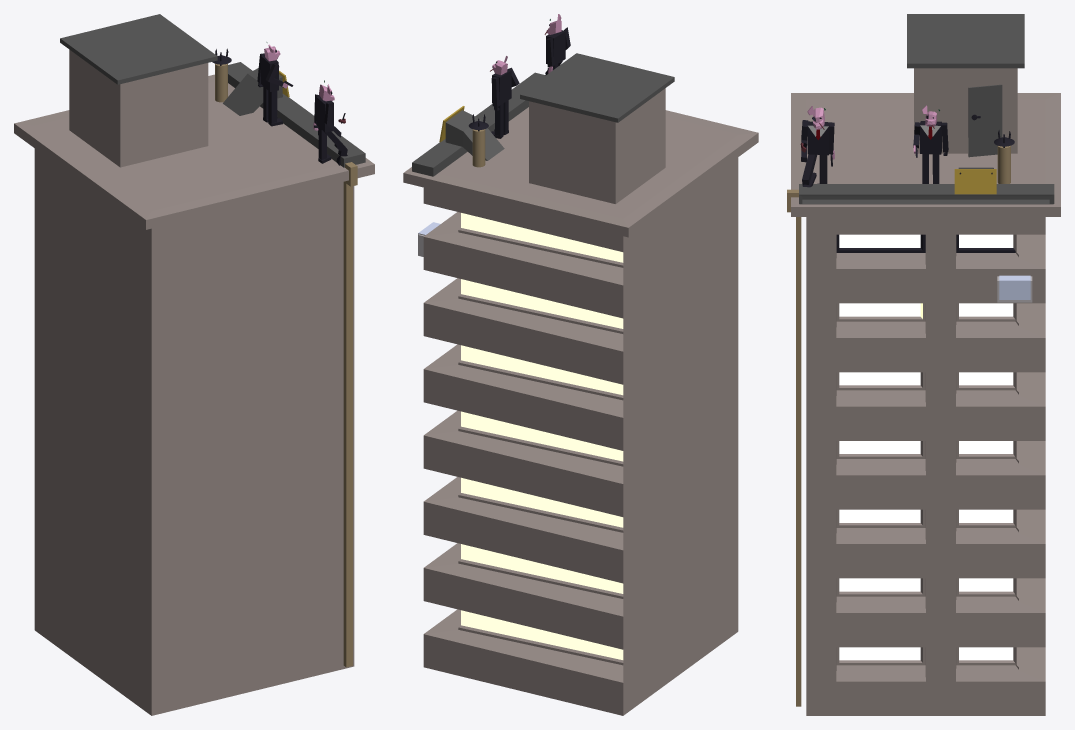
Rendered from pig.glb.
The picture shows the model from 3 angles, left to right: view 1: azimuth 30°, elevation 25°; view 2: azimuth 150°, elevation 25°; view 3: azimuth 270°, elevation 25°; orthographic projection. The views are drawn at different scales.
Visible parts, largest first — view 1: Cube.014, Cube.016, Cube.022, Cube.023, Cube.015, Cube.020; view 2: Cube.014, Cube.016, Cube.022, Cube.015, Cube.020; view 3: Cube.014, Cube.022, Cube.016, Cube.015, Cube.023, Cube.017, Cube.021, Cube.019, Cube, Cube.036, Cylinder.008.
Boxes of the visible parts, x1,y1,x2,y2 form: Cube.014: (14,74,374,715); Cube.016: (69,49,208,167); Cube.022: (60,14,217,84); Cube.023: (343,162,357,667); Cube.015: (228,62,365,167); Cube.020: (223,68,282,115); Cube.014: (403,107,758,715); Cube.016: (529,88,665,203); Cube.022: (520,53,674,122); Cube.015: (412,72,545,176); Cube.020: (445,110,504,160); Cube.014: (791,93,1060,715); Cube.022: (907,14,1024,68); Cube.016: (914,68,1017,153); Cube.015: (799,184,1054,204); Cube.023: (787,189,801,706); Cube.017: (968,84,1002,157); Cube.021: (954,169,996,194); Cube.019: (997,275,1032,302); Cube: (807,121,829,155); Cube.036: (920,121,941,154); Cylinder.008: (997,145,1010,183).
Size of the model in its own units: 40.62 by 101 by 41.2.
